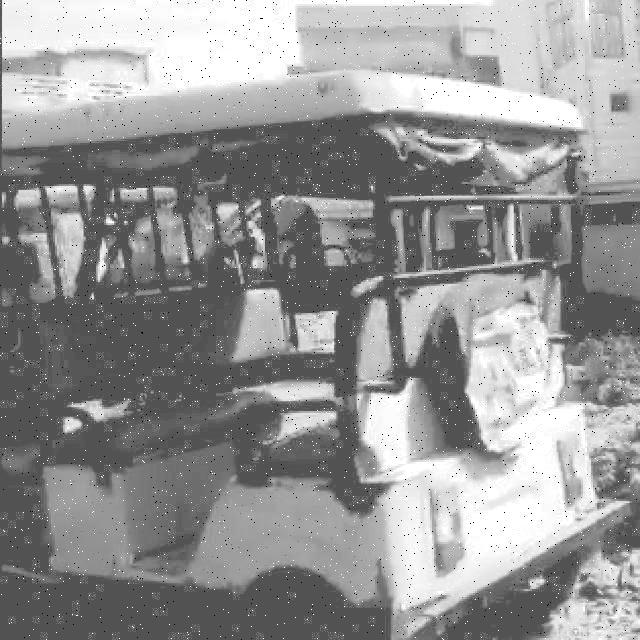Toto: (0, 58, 603, 640)
